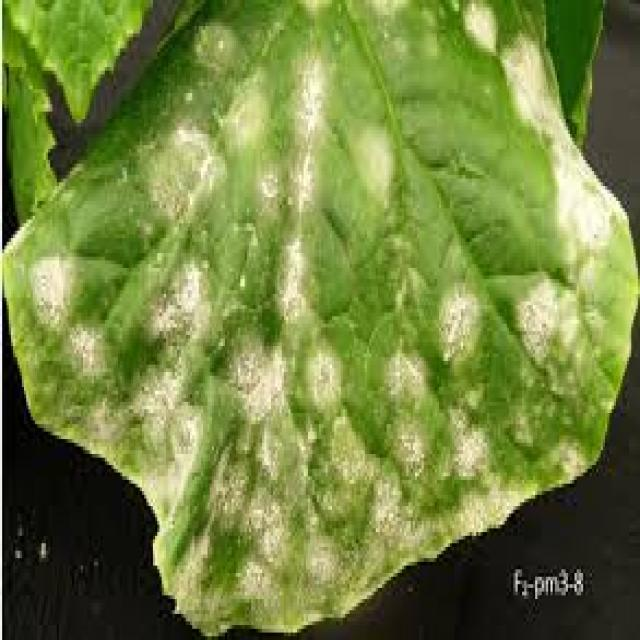powdery-mildew: (158, 34, 308, 531), (165, 346, 496, 542), (465, 0, 607, 220)
